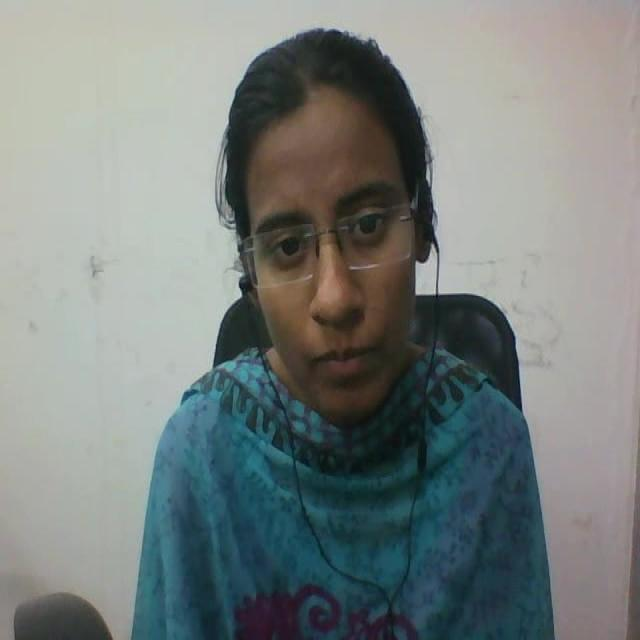Engaged: (215, 28, 460, 438)
